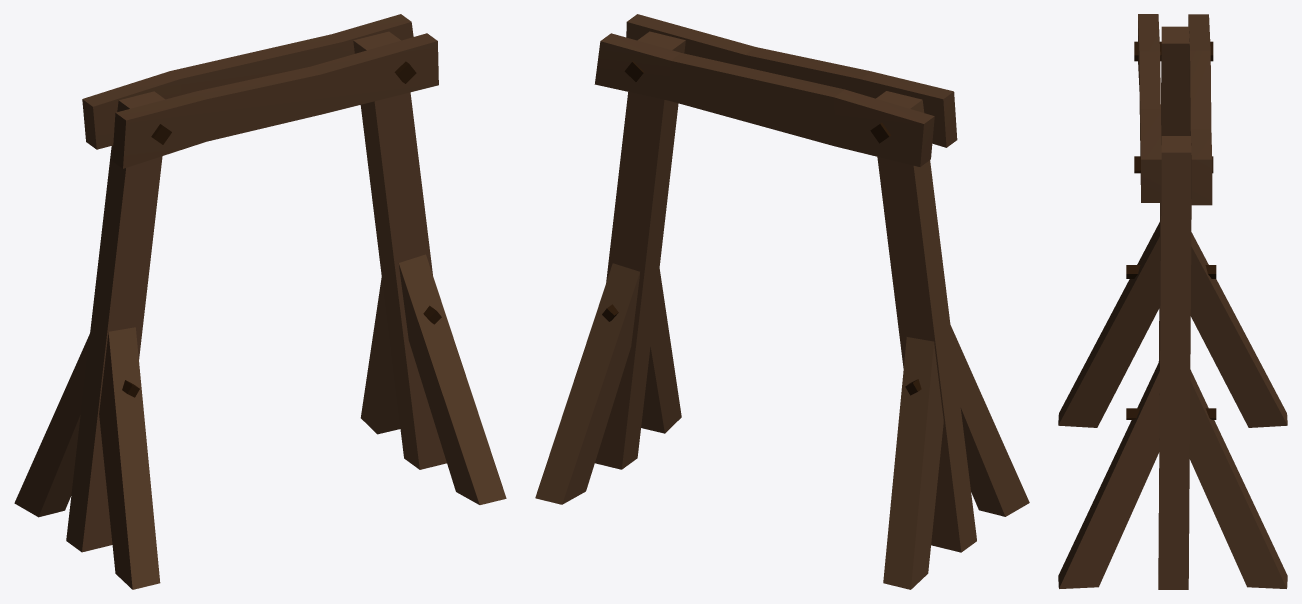
The model's file is Beam Exterior 2.glb.
The picture shows the model from 3 angles, left to right: view 1: azimuth 30°, elevation 25°; view 2: azimuth 150°, elevation 25°; view 3: azimuth 270°, elevation 25°; orthographic projection. The views are drawn at different scales.
Parts seen in each view (by area): view 1: Beam Exterior 2; view 2: Beam Exterior 2; view 3: Beam Exterior 2.
Part boxes in pixels (x1=…): Beam Exterior 2: x1=14, y1=14, x2=506, y2=589; Beam Exterior 2: x1=535, y1=14, x2=1029, y2=589; Beam Exterior 2: x1=1058, y1=14, x2=1287, y2=589.
Size of what is drawn, in the model's own units: 3.66 by 4.05 by 2.02.
Materials: 1 (1 with a texture image).
